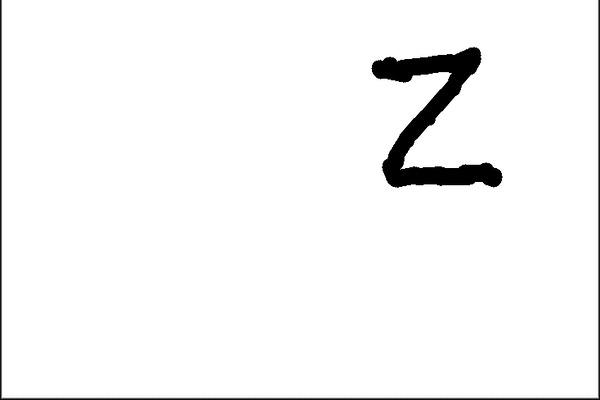Z: (367, 41, 518, 196)
